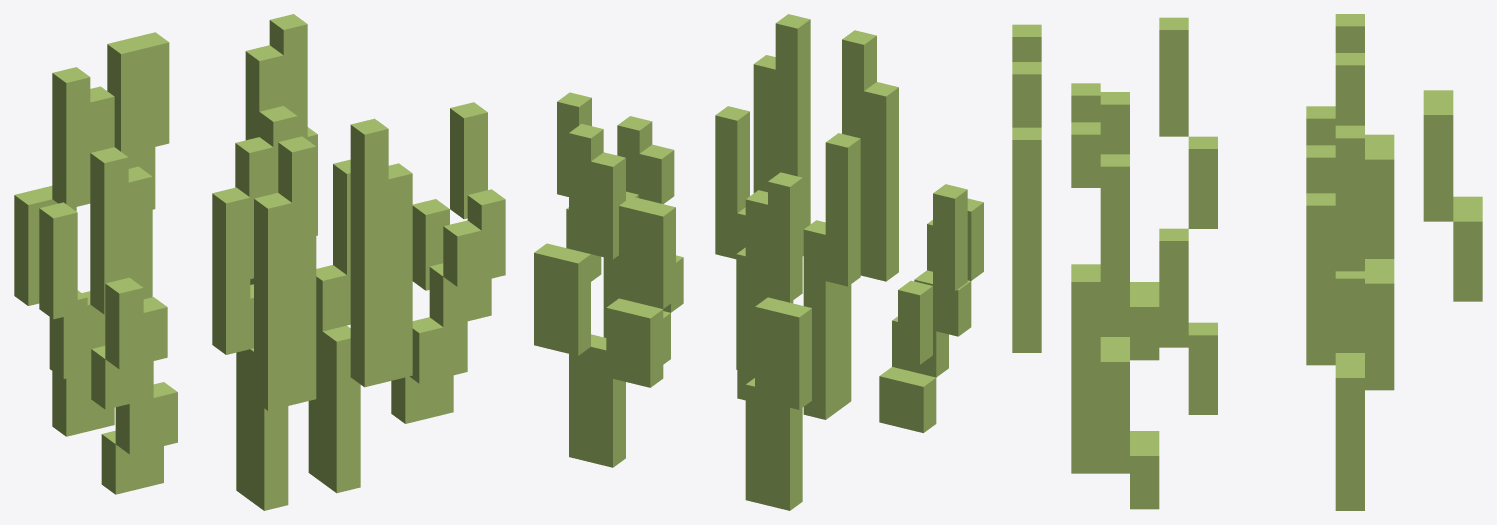
File: core_flare.glb
3 views of the same model, side by side, from view 1: azimuth 30°, elevation 25°; view 2: azimuth 150°, elevation 25°; view 3: azimuth 270°, elevation 25° (orthographic). The views are drawn at different scales.
Size of the model in its own units: 18 by 15 by 16.
